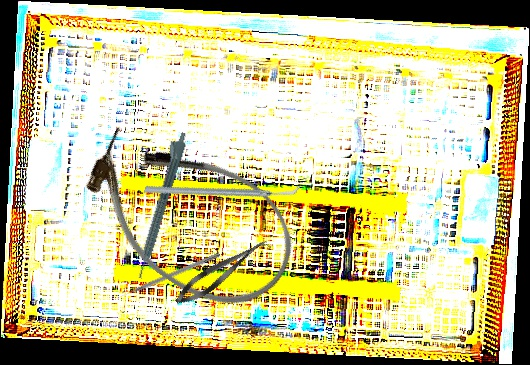Cannula: (63, 103, 316, 332)
Chopper: (142, 125, 302, 253)
Handpiece: (128, 129, 190, 280)
Hook Surgical: (115, 251, 221, 301)
Micro Scissor: (170, 232, 273, 311)
